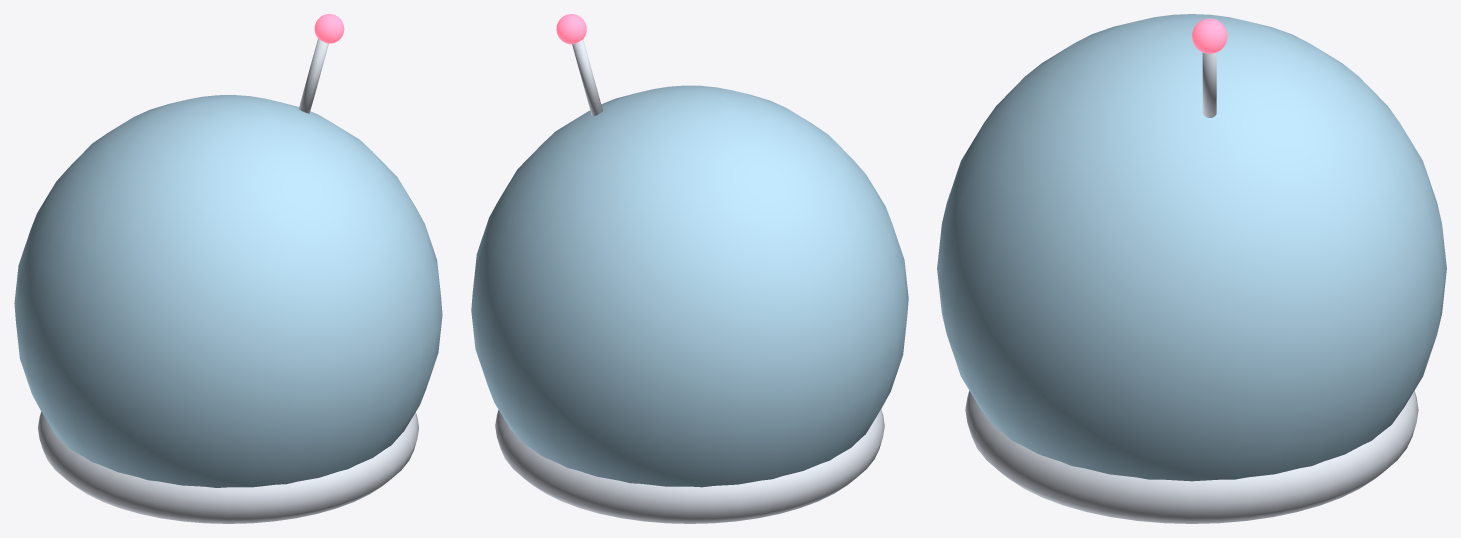
File: spacesuit.glb
The picture shows the model from 3 angles, left to right: view 1: azimuth 30°, elevation 25°; view 2: azimuth 150°, elevation 25°; view 3: azimuth 270°, elevation 25°; orthographic projection. The views are drawn at different scales.
Visible parts, largest first — view 1: spacesuit; view 2: spacesuit; view 3: spacesuit.
Boxes of the visible parts, x1,y1,x2,y2 form: spacesuit: [14, 14, 442, 523]; spacesuit: [471, 14, 908, 523]; spacesuit: [937, 14, 1446, 523].
Bounding box in the file's own units: 1.44 × 1.69 × 1.44.
